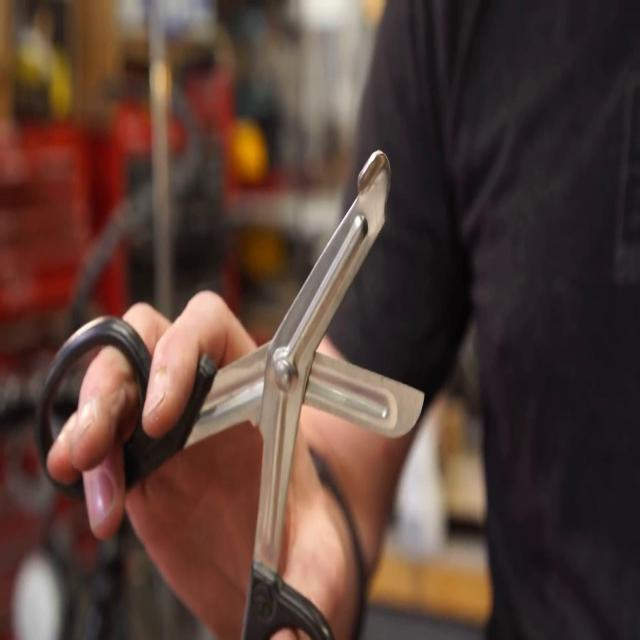scissor: (37, 151, 425, 640)
